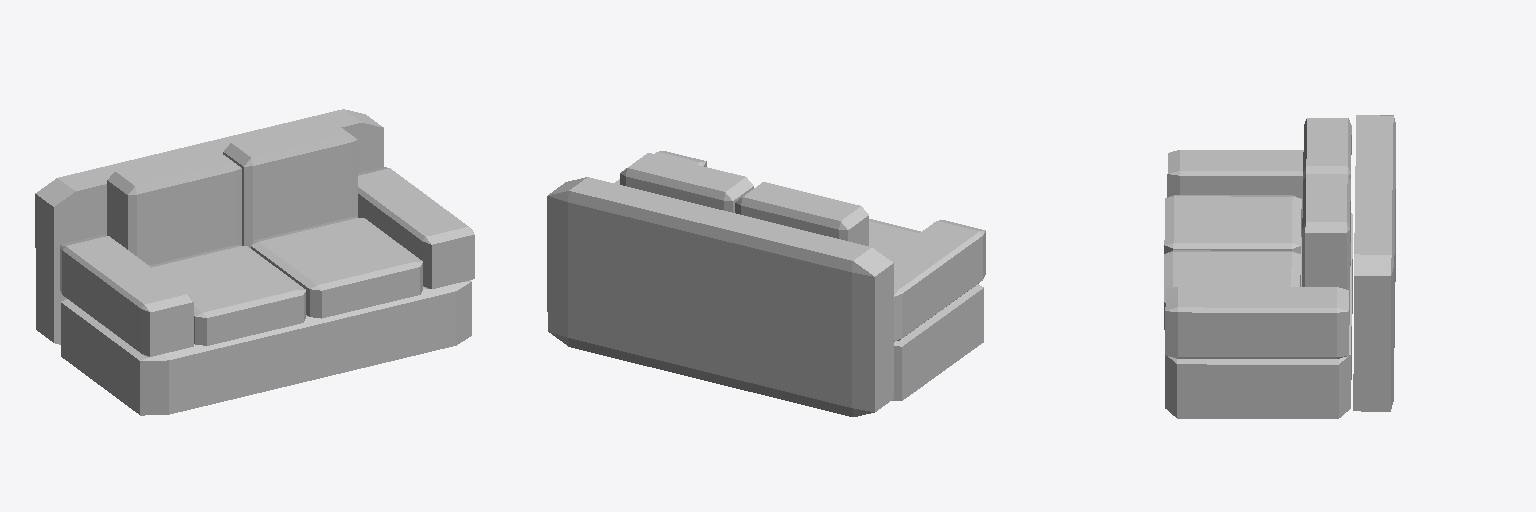
File: couch_mr.obj
3 views of the same model, side by side, from view 1: azimuth 30°, elevation 25°; view 2: azimuth 150°, elevation 25°; view 3: azimuth 270°, elevation 25° (orthographic).
Visible parts, largest first — view 1: couch.001_Cube.037; view 2: couch.001_Cube.037; view 3: couch.001_Cube.037.
Boxes of the visible parts, x1=… form: couch.001_Cube.037: x1=35, y1=109, x2=474, y2=415; couch.001_Cube.037: x1=547, y1=151, x2=985, y2=416; couch.001_Cube.037: x1=1164, y1=115, x2=1395, y2=418.
Bounding box in the file's own units: 7.47 × 3.73 × 4.54.